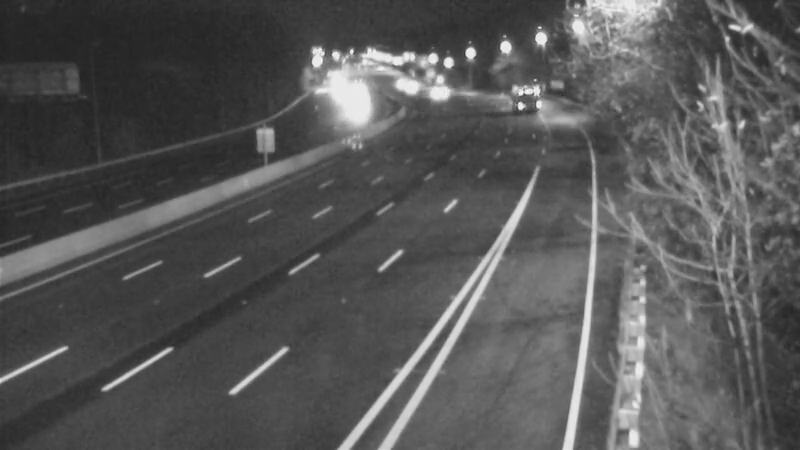vehicle: (377, 58, 427, 108), (388, 64, 438, 114), (504, 71, 554, 121), (409, 68, 459, 118), (323, 85, 373, 135)
